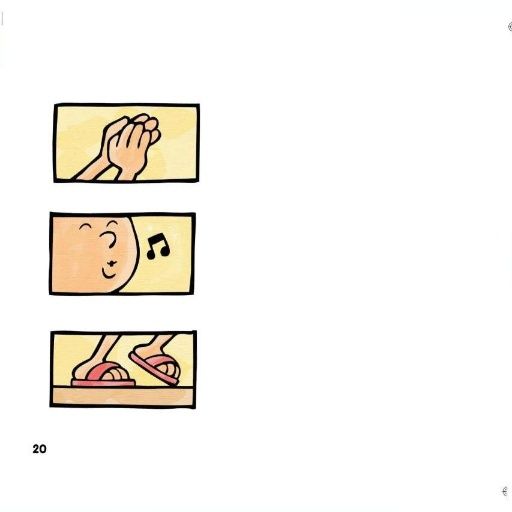hand: (108, 120, 149, 174)
